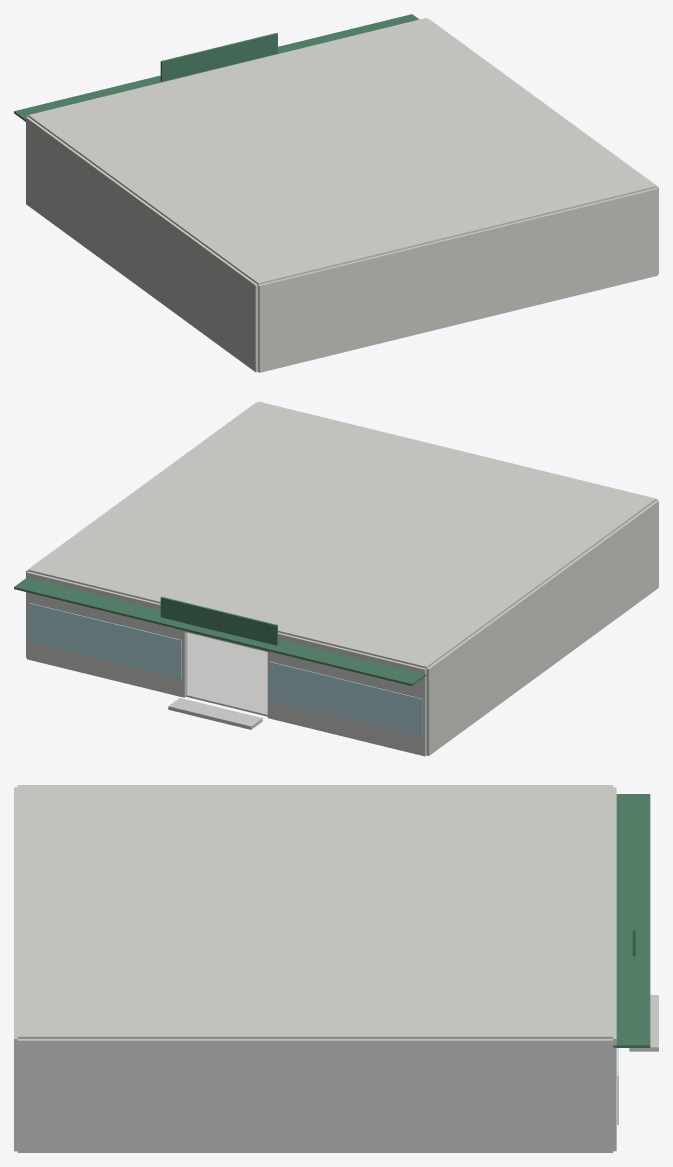
Rendered from store_shell.glb.
3 views of the same model, one above another, from view 1: azimuth 30°, elevation 25°; view 2: azimuth 150°, elevation 25°; view 3: azimuth 270°, elevation 25° (orthographic). The views are drawn at different scales.
Visible parts, largest first — view 1: roof, wall_back, wall_left, sign_board, awning; view 2: roof, wall_left, front_left, glass_right, glass_left, front_right, awning, floor_slab, sign_board, entrance_step; view 3: roof, wall_right, awning, wall_back, front_right, entrance_step.
Part boxes in pixels (<box>): roof: <box>28,18,656,284</box>; wall_back: <box>258,188,657,372</box>; wall_left: <box>26,117,258,372</box>; sign_board: <box>160,33,277,81</box>; awning: <box>14,14,419,121</box>; roof: <box>28,401,656,668</box>; wall_left: <box>426,500,658,755</box>; front_left: <box>267,632,426,756</box>; glass_right: <box>28,603,181,678</box>; glass_left: <box>269,661,422,737</box>; front_right: <box>27,571,187,697</box>; awning: <box>14,577,426,685</box>; floor_slab: <box>186,632,267,716</box>; sign_board: <box>160,597,277,645</box>; entrance_step: <box>168,698,262,729</box>; roof: <box>17,785,612,1038</box>; wall_right: <box>17,1039,612,1152</box>; awning: <box>613,794,650,1047</box>; wall_back: <box>14,787,17,1151</box>; front_right: <box>613,939,616,1151</box>; entrance_step: <box>629,995,658,1051</box>.
Bounding box in the file's own units: 24.3 × 5.85 × 26.
